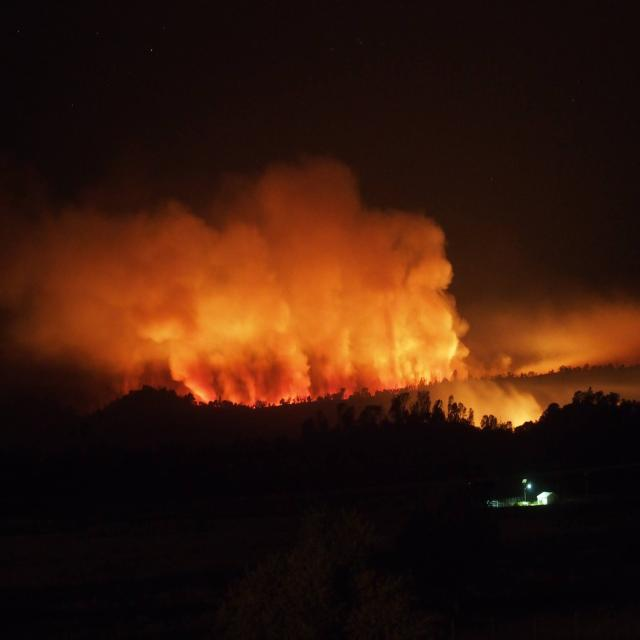Smoke: (49, 174, 477, 398)
